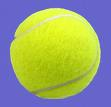tennis ball: (5, 4, 102, 99)
